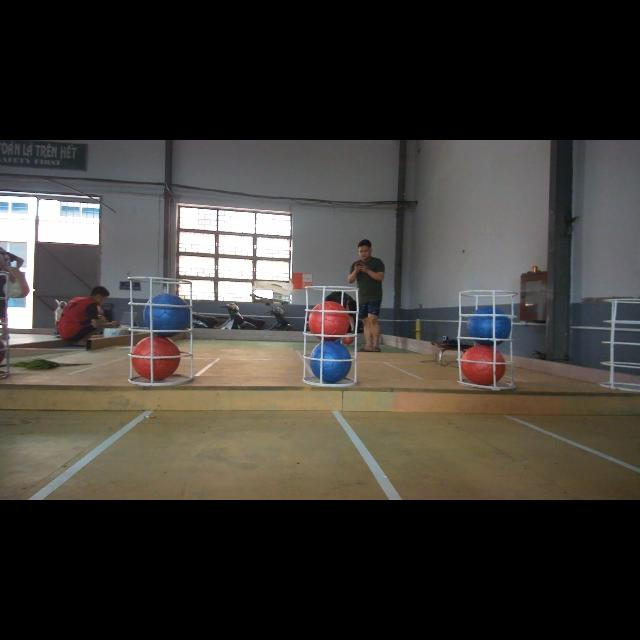B: (143, 294, 190, 336), (310, 340, 352, 384), (466, 306, 512, 344)
R: (132, 338, 182, 378), (308, 300, 349, 340), (461, 346, 505, 382)
